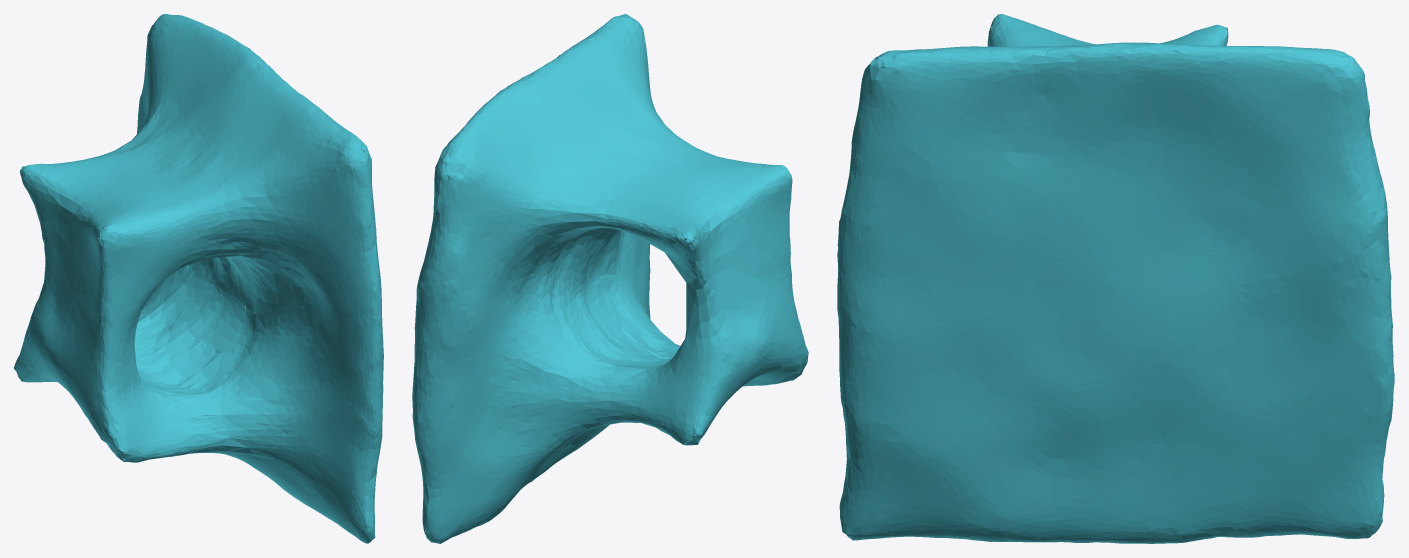
The picture shows the model from 3 angles, left to right: view 1: azimuth 30°, elevation 25°; view 2: azimuth 150°, elevation 25°; view 3: azimuth 270°, elevation 25°; orthographic projection. The views are drawn at different scales.
Visible parts, largest first — view 1: Renderer Node; view 2: Renderer Node; view 3: Renderer Node.
Part boxes in pixels (bbox=[...]): Renderer Node: bbox=[14, 14, 383, 543]; Renderer Node: bbox=[412, 14, 808, 543]; Renderer Node: bbox=[837, 14, 1394, 543].
Bounding box in the file's own units: 0.3962 × 0.6276 × 0.6321.
Materials: 1 (1 with a texture image).
